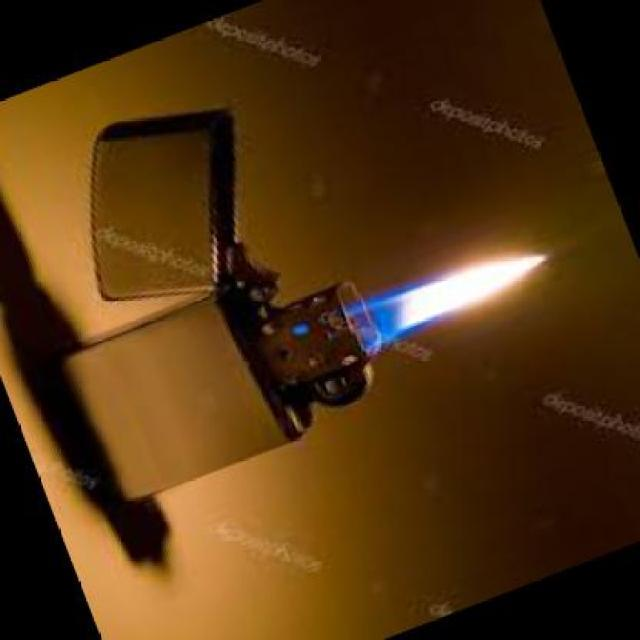Fire: (334, 250, 561, 355)
